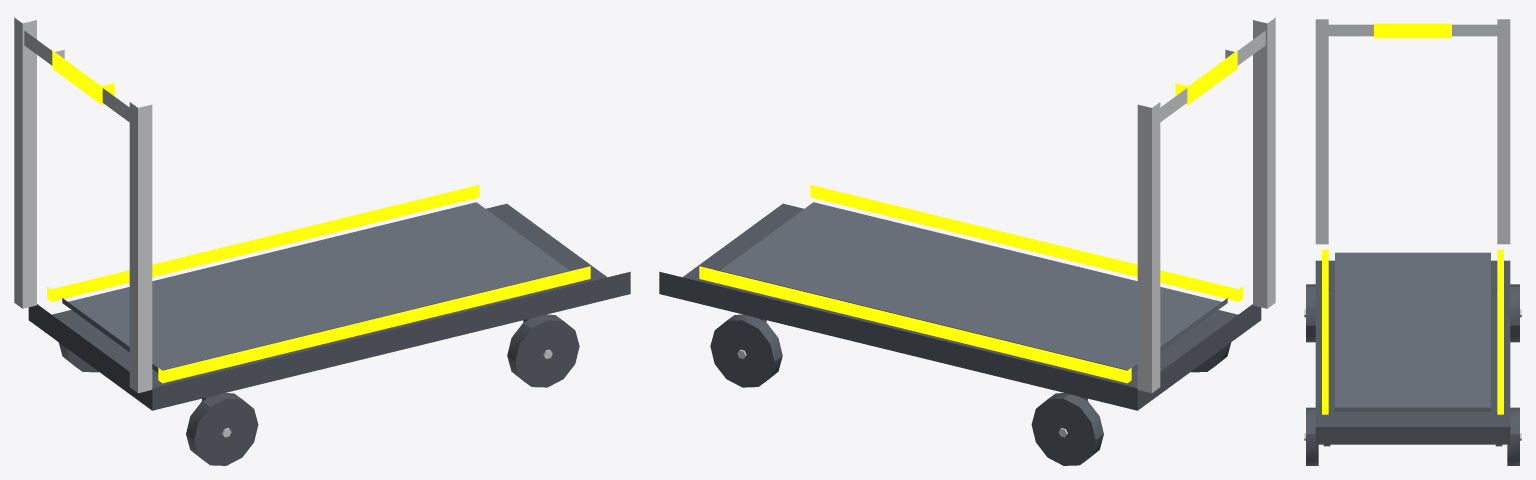
File: ext_service_hand_cart_01.glb
3 views of the same model, side by side, from view 1: azimuth 30°, elevation 25°; view 2: azimuth 150°, elevation 25°; view 3: azimuth 270°, elevation 25° (orthographic). The views are drawn at different scales.
Parts seen in each view (by area): view 1: Deck_Pad, Deck, Handle, Deck_Rails, Wheels, Grip; view 2: Deck_Pad, Deck, Handle, Deck_Rails, Wheels, Grip; view 3: Deck_Pad, Deck, Handle, Wheels, Deck_Rails, Grip.
Part boxes in pixels (left/top/right/bottom): Deck_Pad: left=62, top=202, right=575, bottom=372; Deck: left=28, top=203, right=630, bottom=410; Handle: left=14, top=17, right=152, bottom=393; Deck_Rails: left=47, top=184, right=590, bottom=383; Wheels: left=58, top=314, right=579, bottom=465; Grip: left=52, top=50, right=114, bottom=104; Deck_Pad: left=714, top=202, right=1227, bottom=372; Deck: left=659, top=203, right=1261, bottom=410; Handle: left=1137, top=17, right=1275, bottom=393; Deck_Rails: left=699, top=184, right=1242, bottom=383; Wheels: left=710, top=314, right=1231, bottom=465; Grip: left=1175, top=50, right=1237, bottom=104; Deck_Pad: left=1335, top=252, right=1490, bottom=411; Deck: left=1315, top=260, right=1510, bottom=444; Handle: left=1315, top=19, right=1510, bottom=244; Wheels: left=1306, top=284, right=1519, bottom=465; Deck_Rails: left=1322, top=249, right=1503, bottom=414; Grip: left=1374, top=23, right=1451, bottom=38.
Size of the model in its own units: 1.38 by 1 by 0.67.
